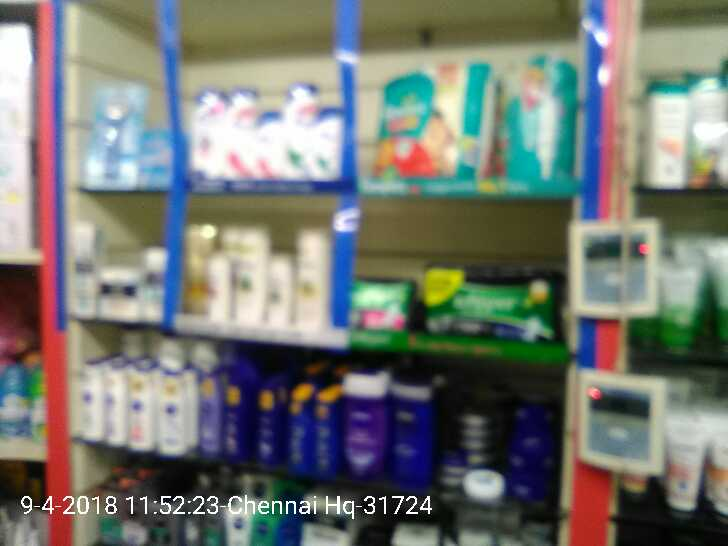venus: (89, 91, 139, 189), (140, 129, 171, 188)
